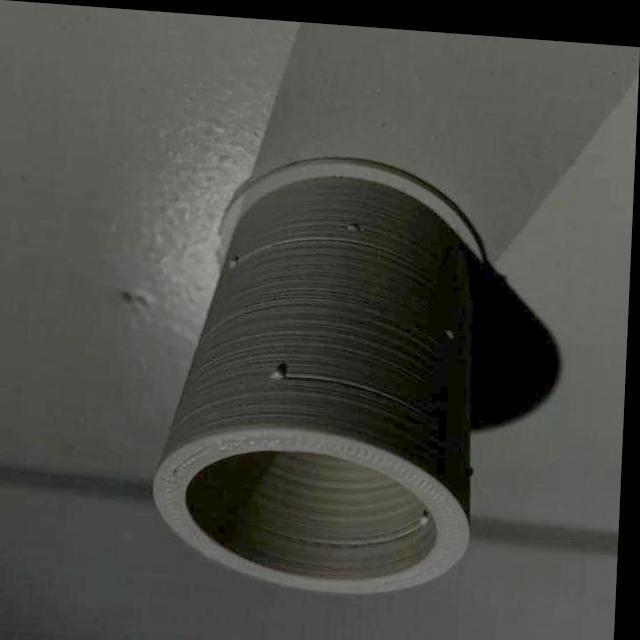zits: (272, 359, 296, 382), (443, 316, 463, 338), (226, 247, 249, 266), (464, 453, 484, 472), (346, 212, 364, 229), (422, 503, 437, 522)
